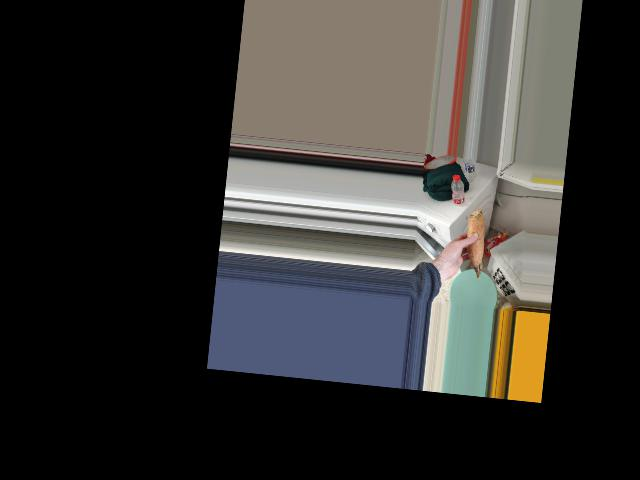sweet_potato: (459, 205, 492, 277)
